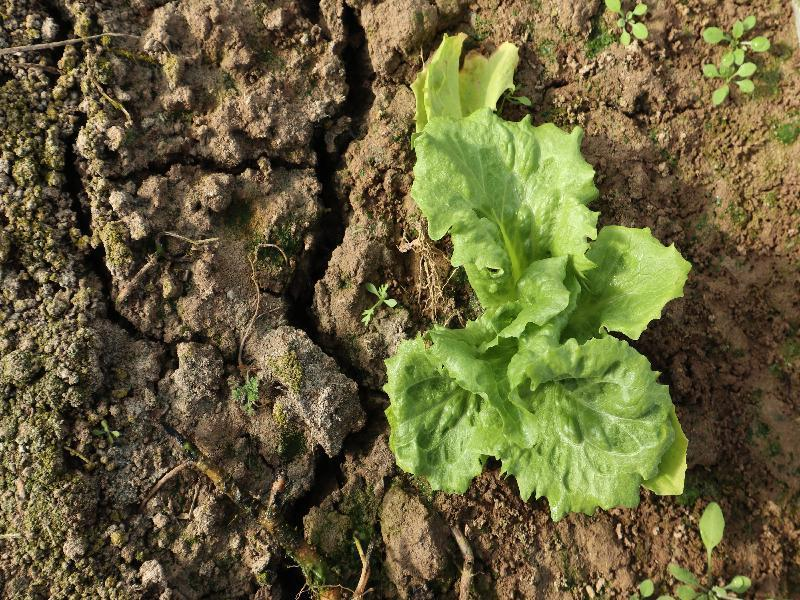lettuce: (385, 30, 691, 518)
